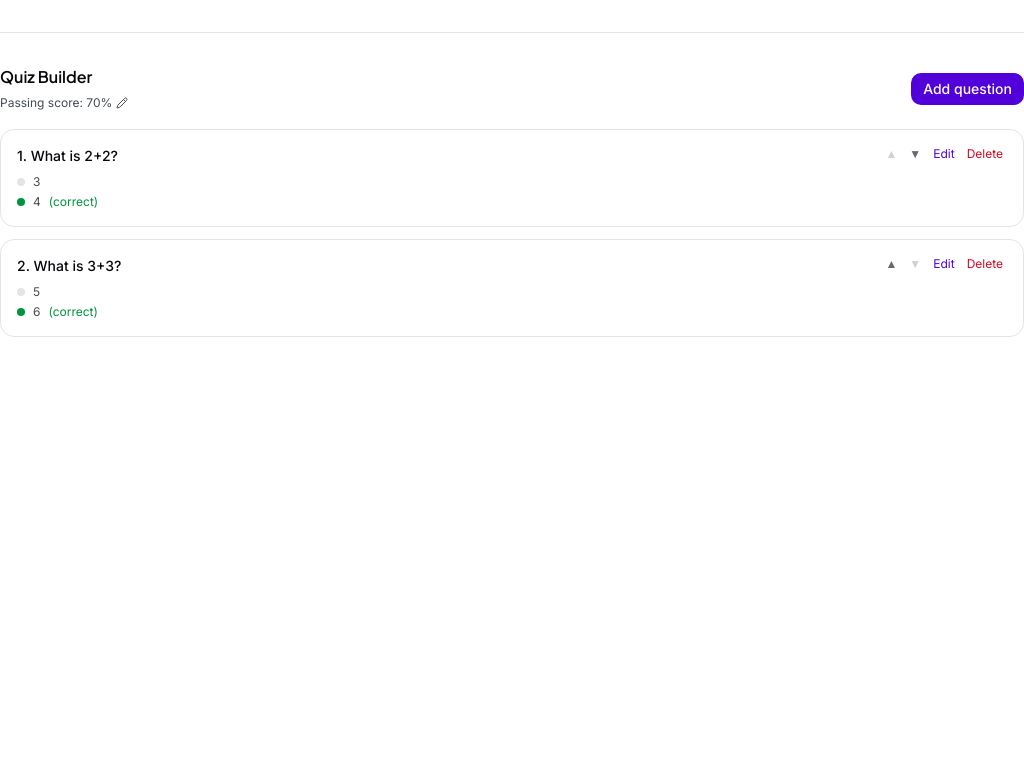
Scenario: QuizBuilder › removes question from list after successful delete
Expected: the text "1. What is 2+2?" is shown, [17,146,118,166]
Click the button with aria-label "delete question 1".
click(985, 154)  # box [963,146,1007,162]
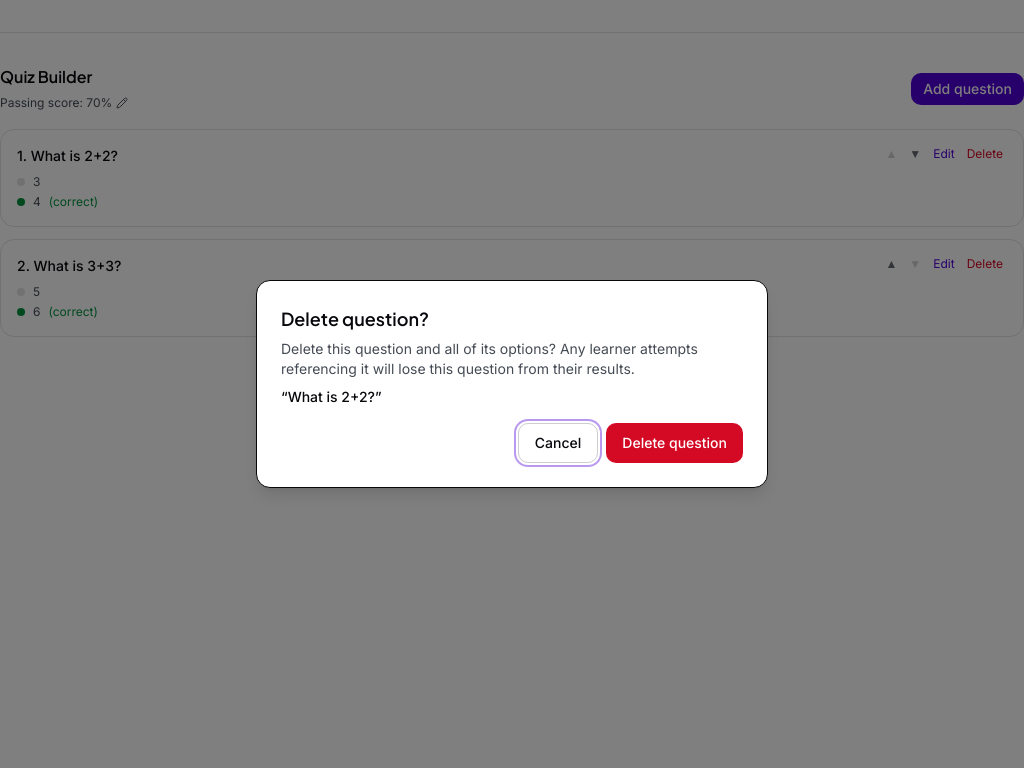
Click the button "Delete question".
click(675, 443)  # box [606,423,743,463]
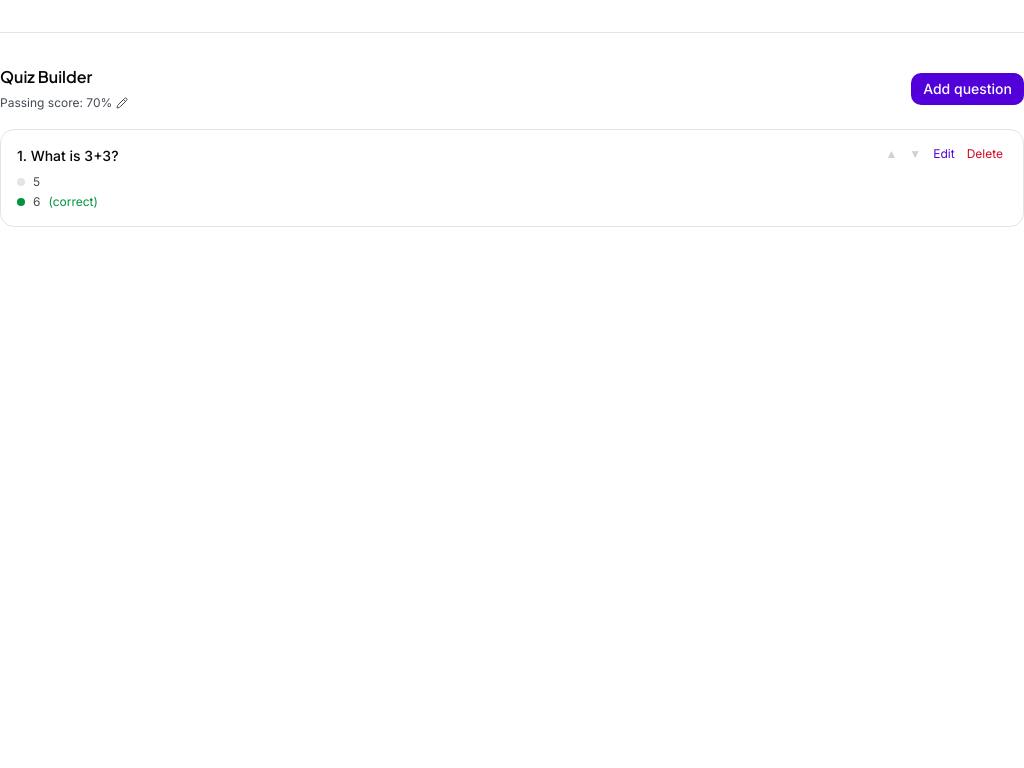
Result: the text "What is 2+2?" is gone
